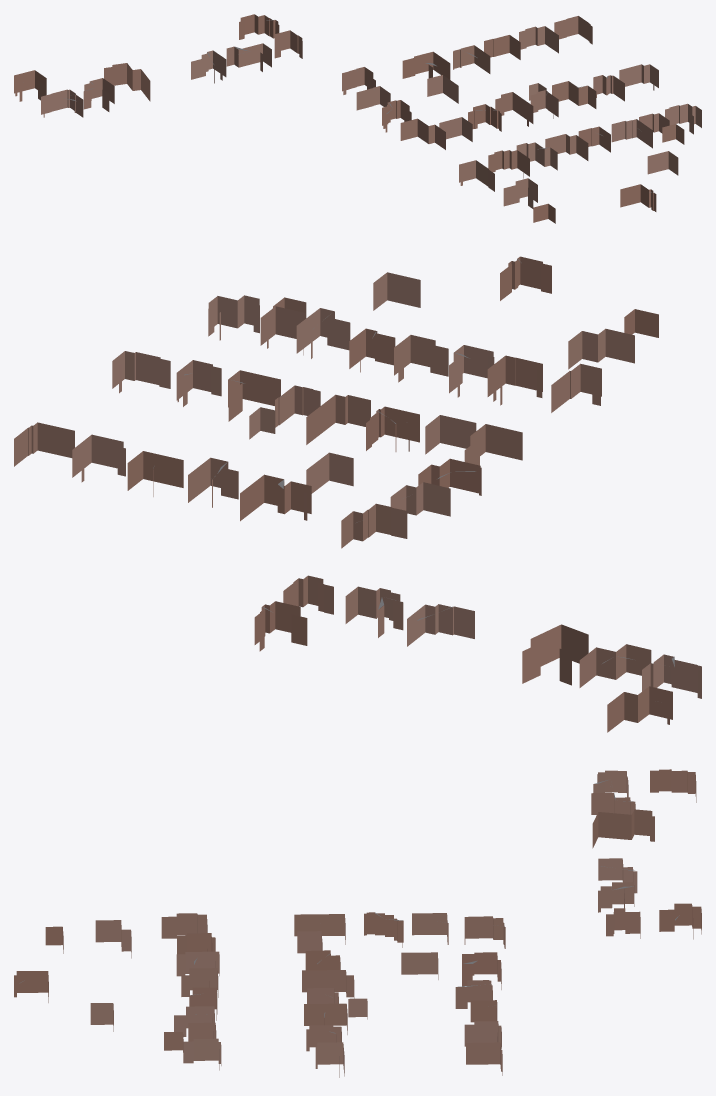
File: c_1643_17822_buildings_residential.glb
3 renders of one model, top to bottom at view 1: azimuth 30°, elevation 25°; view 2: azimuth 150°, elevation 25°; view 3: azimuth 270°, elevation 25°, orthographic. The views are drawn at different scales.
Visible parts, largest first — view 1: geometry_0; view 2: geometry_0; view 3: geometry_0.
Boxes of the visible parts, x1=… form: geometry_0: x1=14, y1=14, x2=701, y2=223; geometry_0: x1=14, y1=256, x2=701, y2=732; geometry_0: x1=14, y1=769, x2=701, y2=1077.
Size of the model in its own units: 270 by 11.08 by 270.
